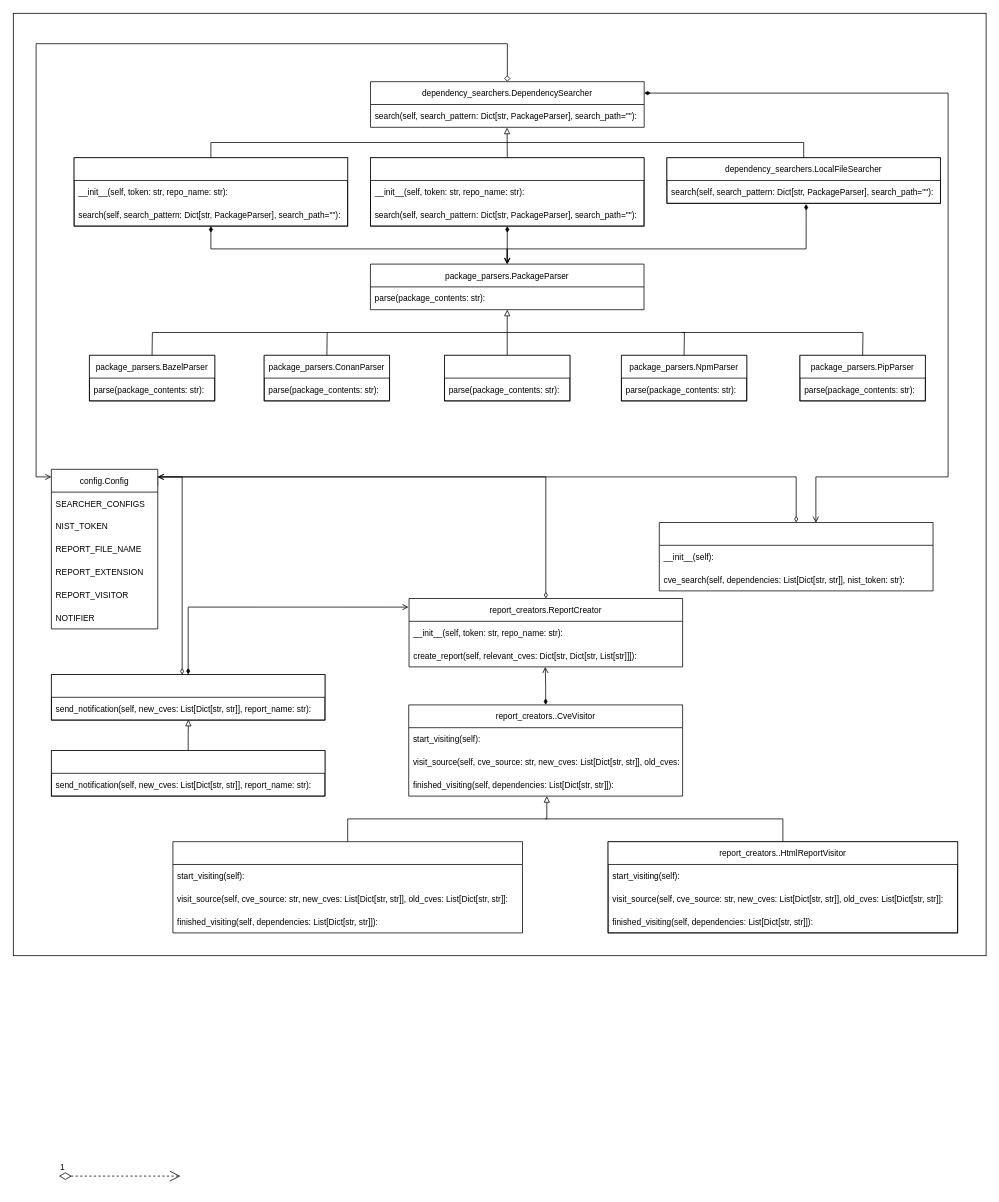
The diagram is 999 pixels wide and 1202 high, and some of its shapes have lost their labels. Each missing label, with the box of its shape:
cve_tracker.NISTCveSearcher: (659, 522, 933, 591)
dependency_searchers.GitHubRepoSearcher: (73, 157, 348, 226)
dependency_searchers.GitLabRepoSearcher: (370, 157, 644, 226)
email.EmailNotifier: (51, 750, 325, 796)
notifier.Notifier: (51, 674, 325, 720)
package_parsers.CsvParser: (444, 355, 570, 401)
report_creators..JsonReportVisitor: (172, 841, 522, 933)
